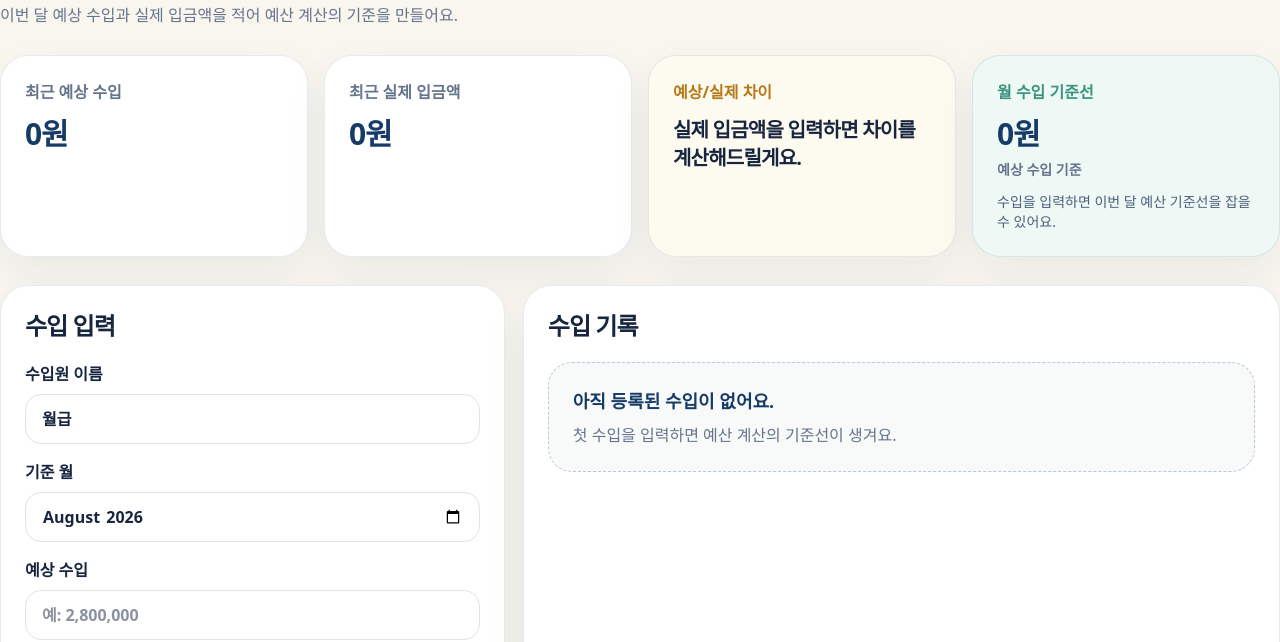
Scenario: IncomePage › formats money fields with commas while typing
In the field labelled "예상 수입": (252, 614) left=25, top=590, right=480, bottom=640, type "100000"
(page scrolled)
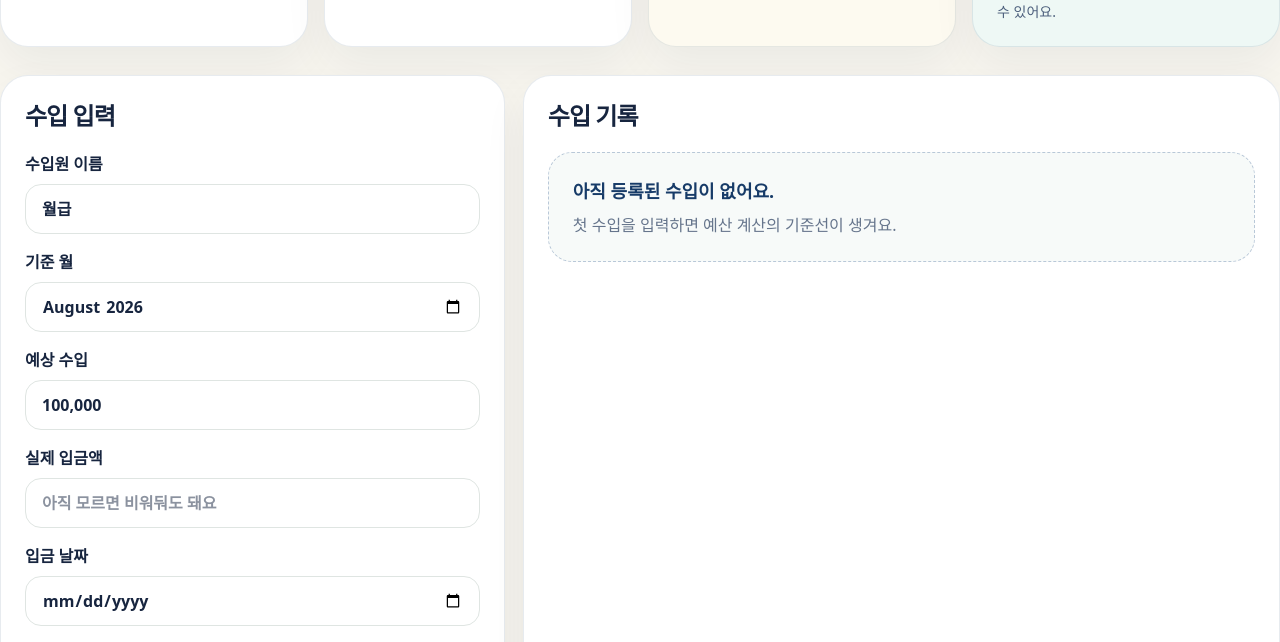
In the field labelled "실제 입금액": (252, 502) left=25, top=478, right=480, bottom=528, type "95000"
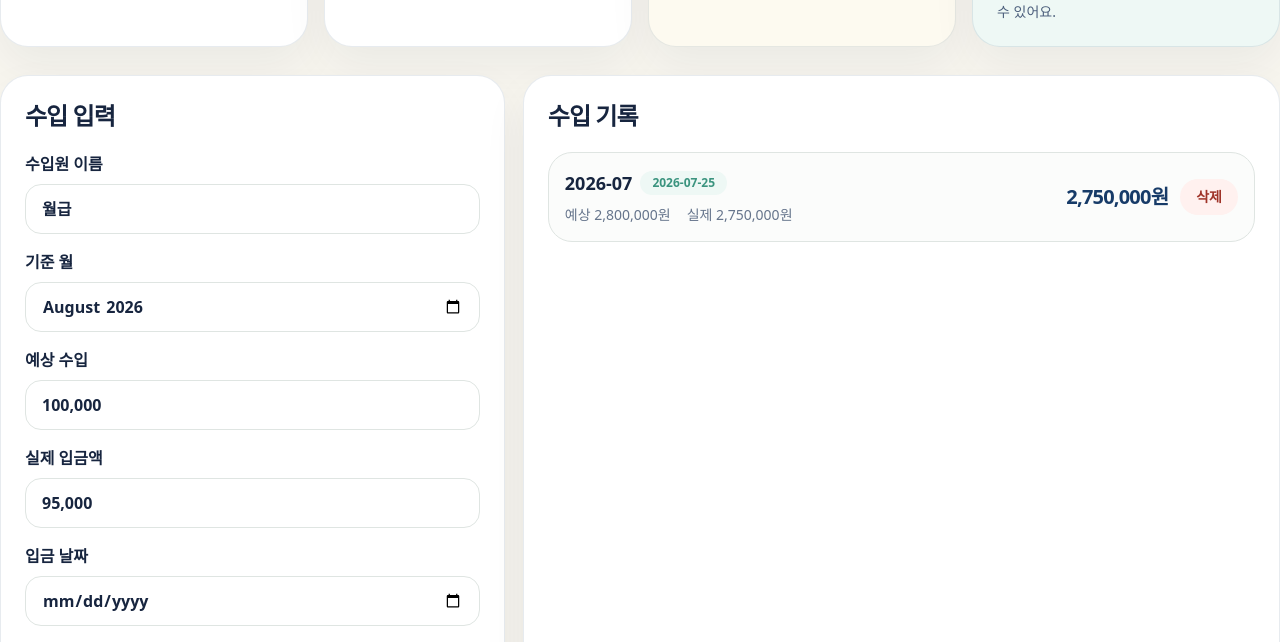
Check: the field labelled "예상 수입" holds "100,000", box left=25, top=380, right=480, bottom=430
Check: the field labelled "실제 입금액" holds "95,000", box left=25, top=478, right=480, bottom=528
